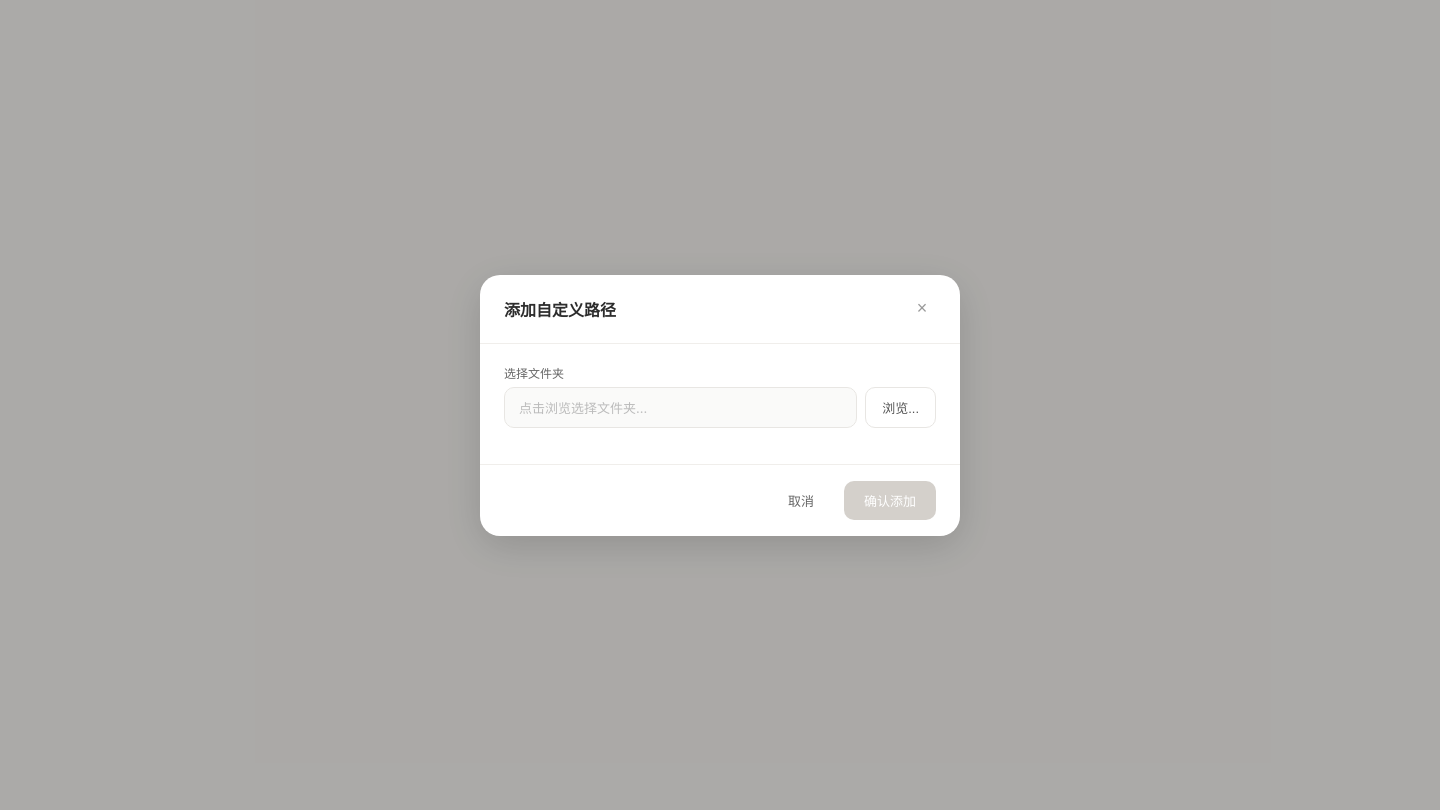
Test: AddPathModal V0.4 Behavior (Unit) › UT-FE-ADDPATH-01: 重复路径应提示“该路径已存在”
Click the button "浏览...": (901, 407) top-left (865, 386), bottom-right (936, 428)
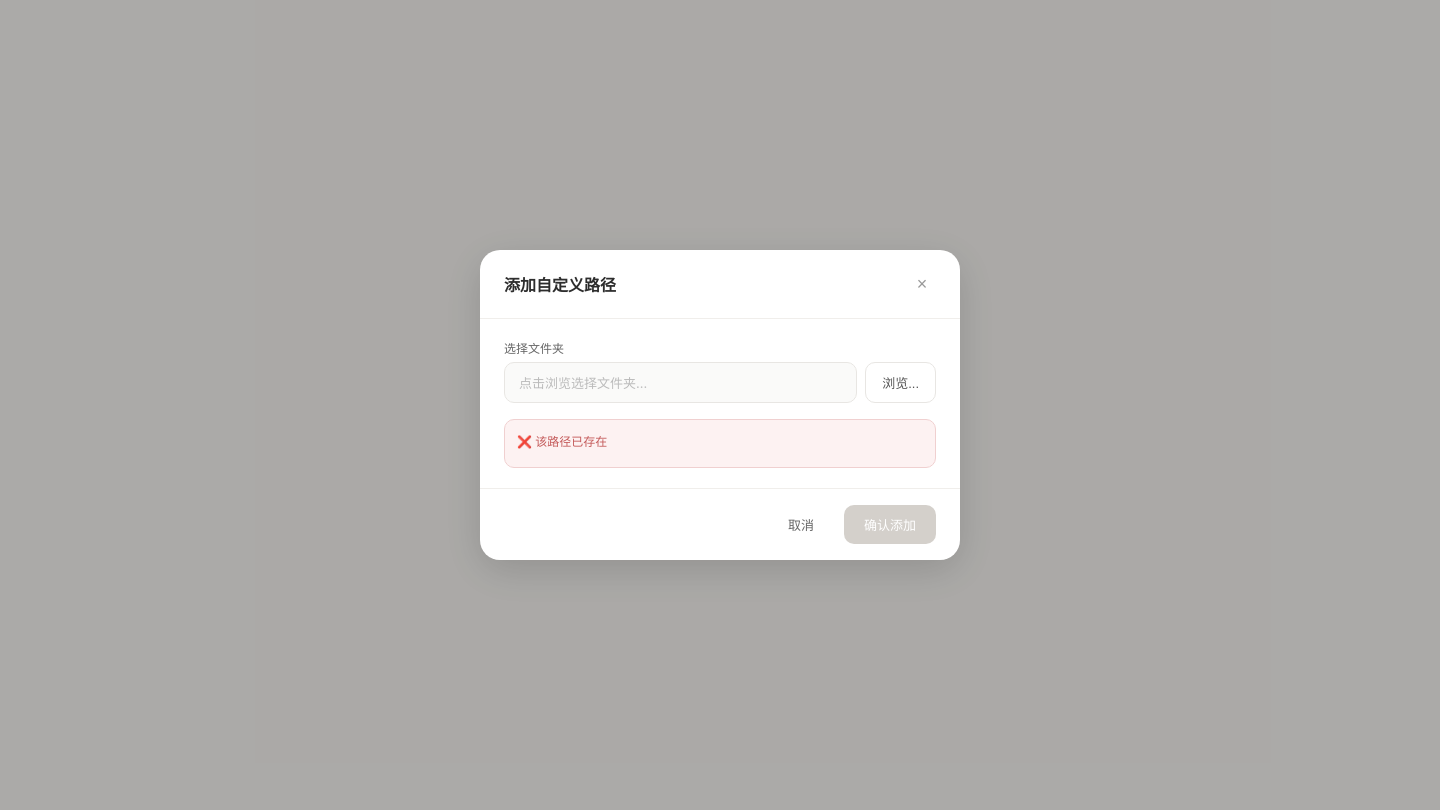
Expected: the text "❌ 该路径已存在" is shown, top-left (517, 434), bottom-right (607, 449)
